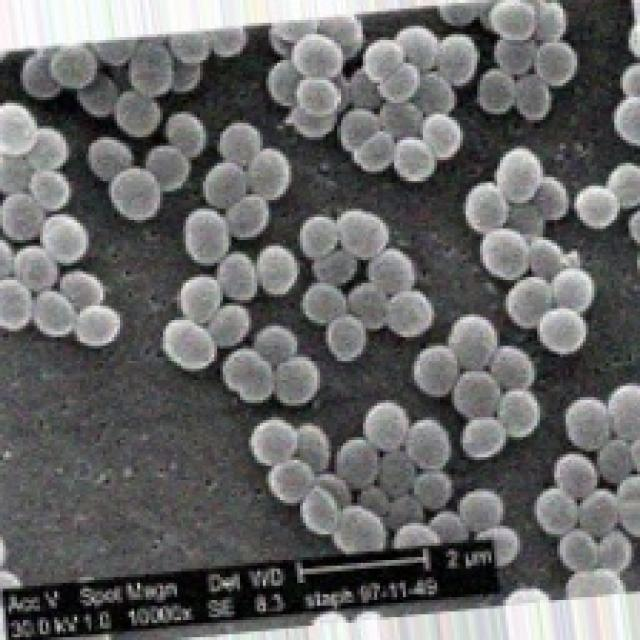Spherical_bacteria: (0, 0, 637, 606)
